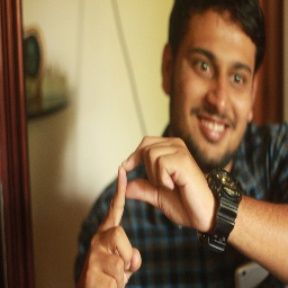P: (81, 135, 198, 288)
